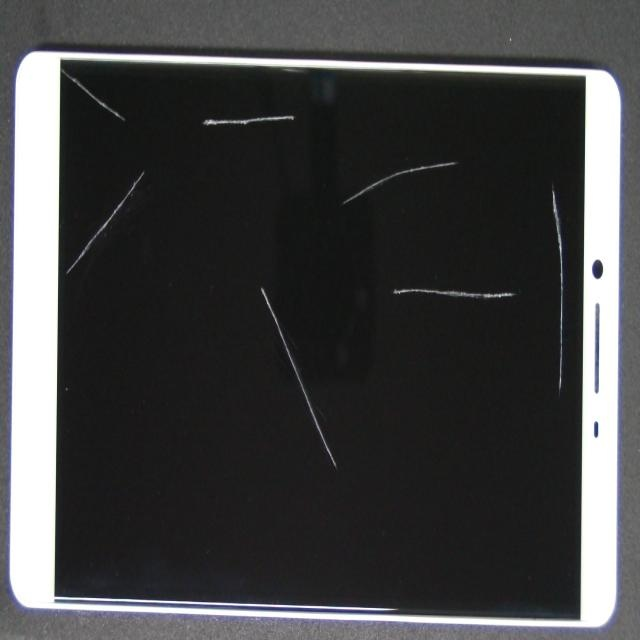scratch: (85, 40, 431, 540), (266, 269, 640, 597), (329, 146, 640, 415), (306, 50, 640, 234), (84, 125, 222, 281), (207, 40, 382, 149)
